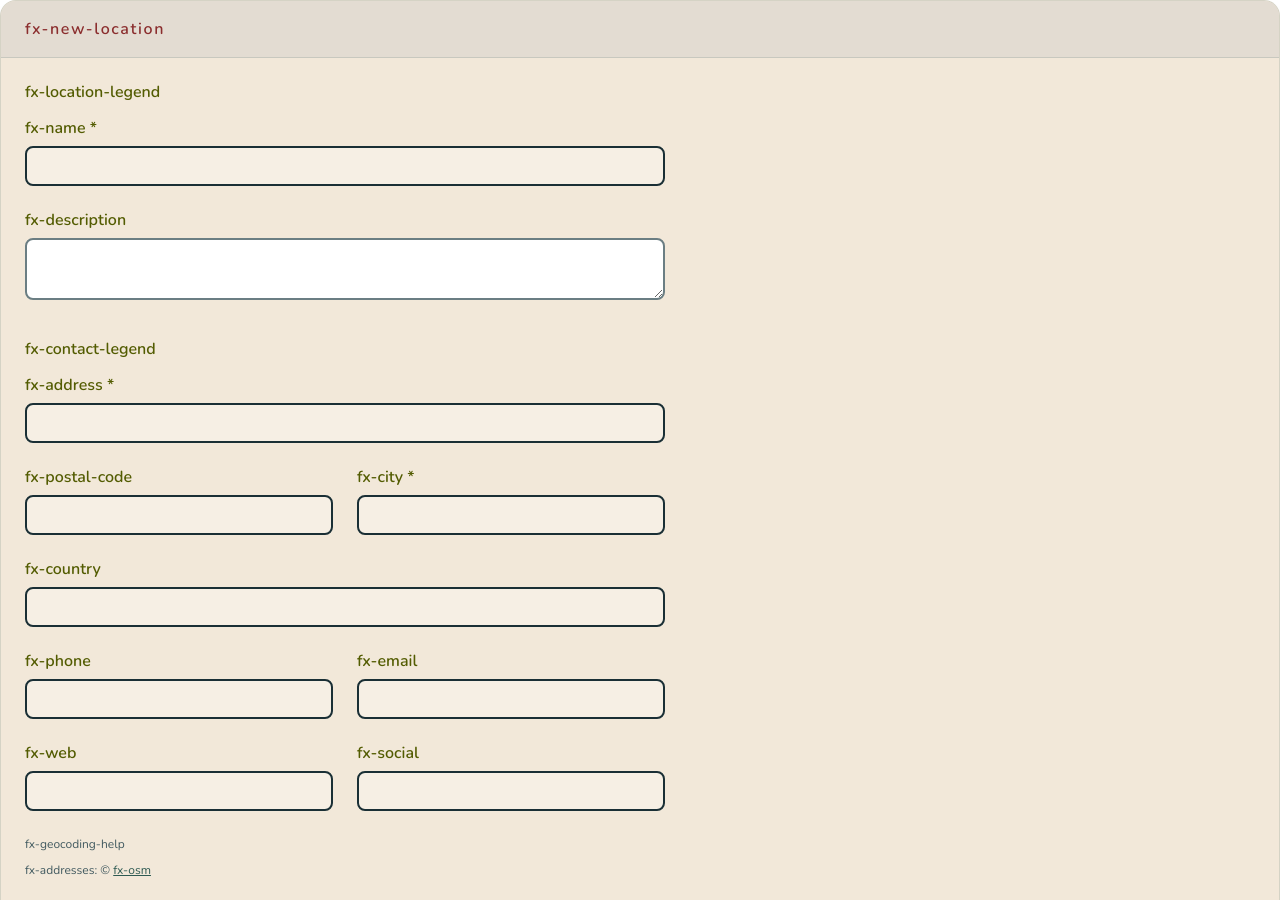
it: LocationForm checks (spec: Location form checks) › shows emailFormatError for an invalid Email and focuses it
Type "Tazavera Gràcia" into the field labelled "fx-name *" at (345, 166), box 25,146 -> 665,186
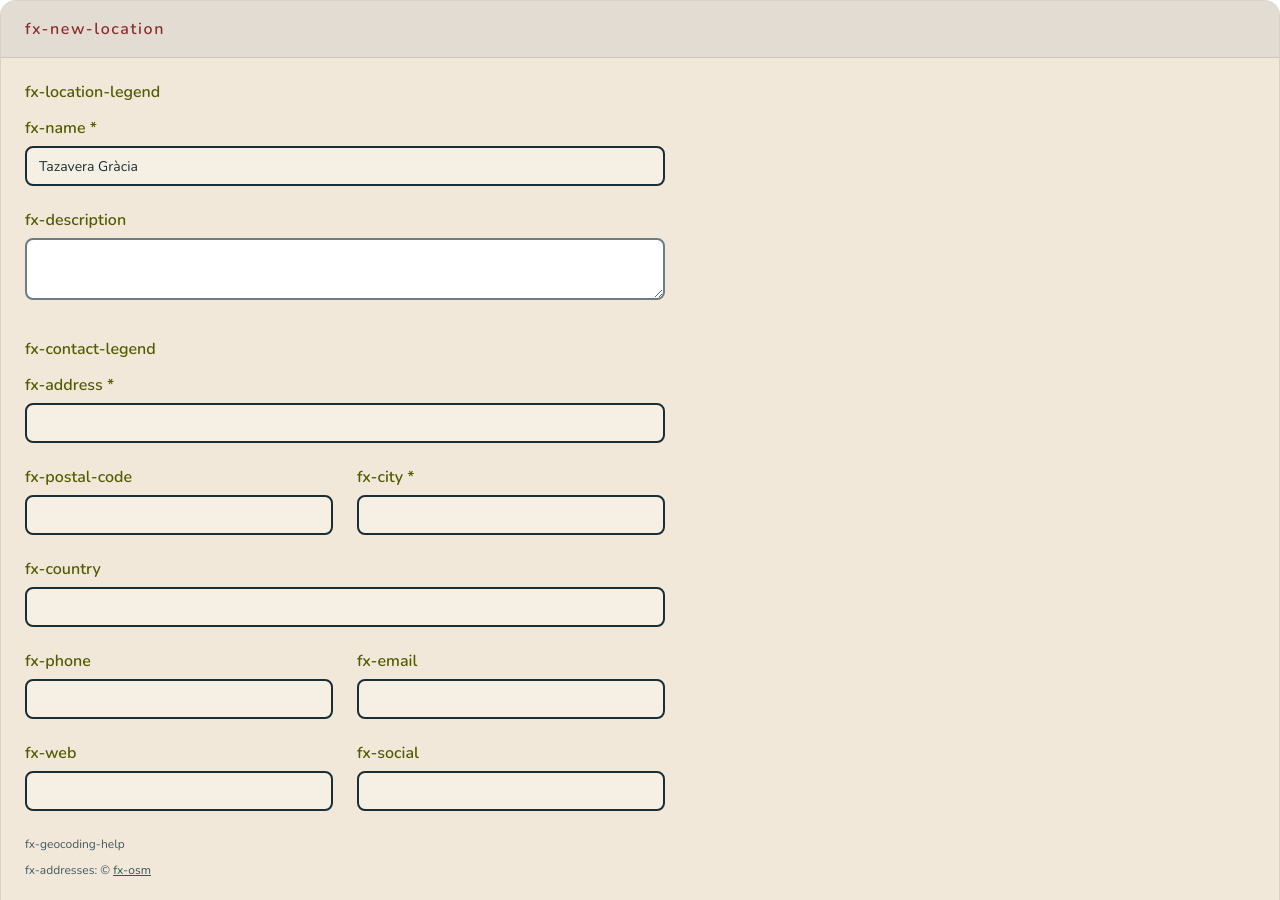
Type "Carrer de Verdi 12" into the field labelled "fx-address *" at (345, 423), box 25,403 -> 665,443
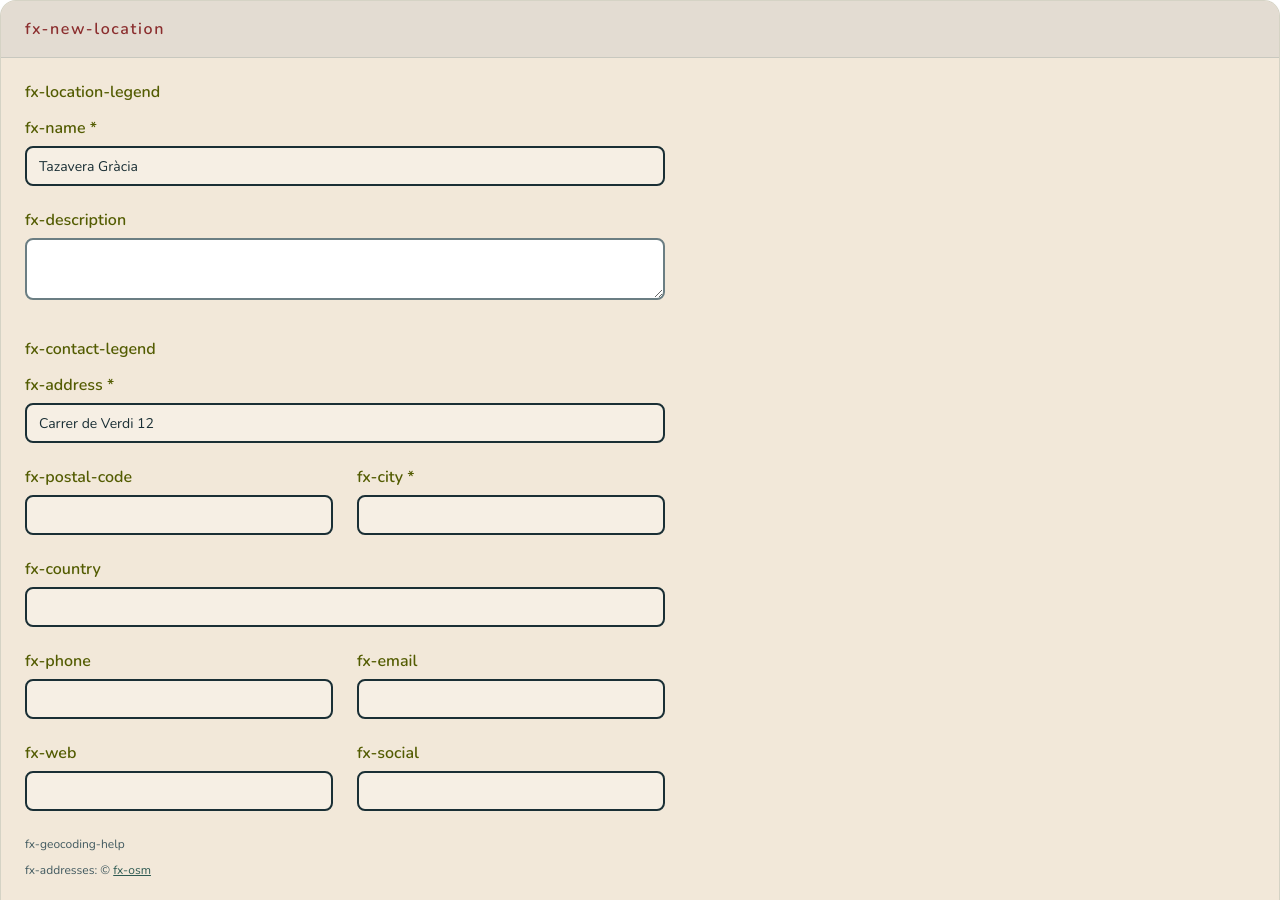
Type "Barcelona" into the field labelled "fx-city *" at (511, 515), box 357,495 -> 665,535
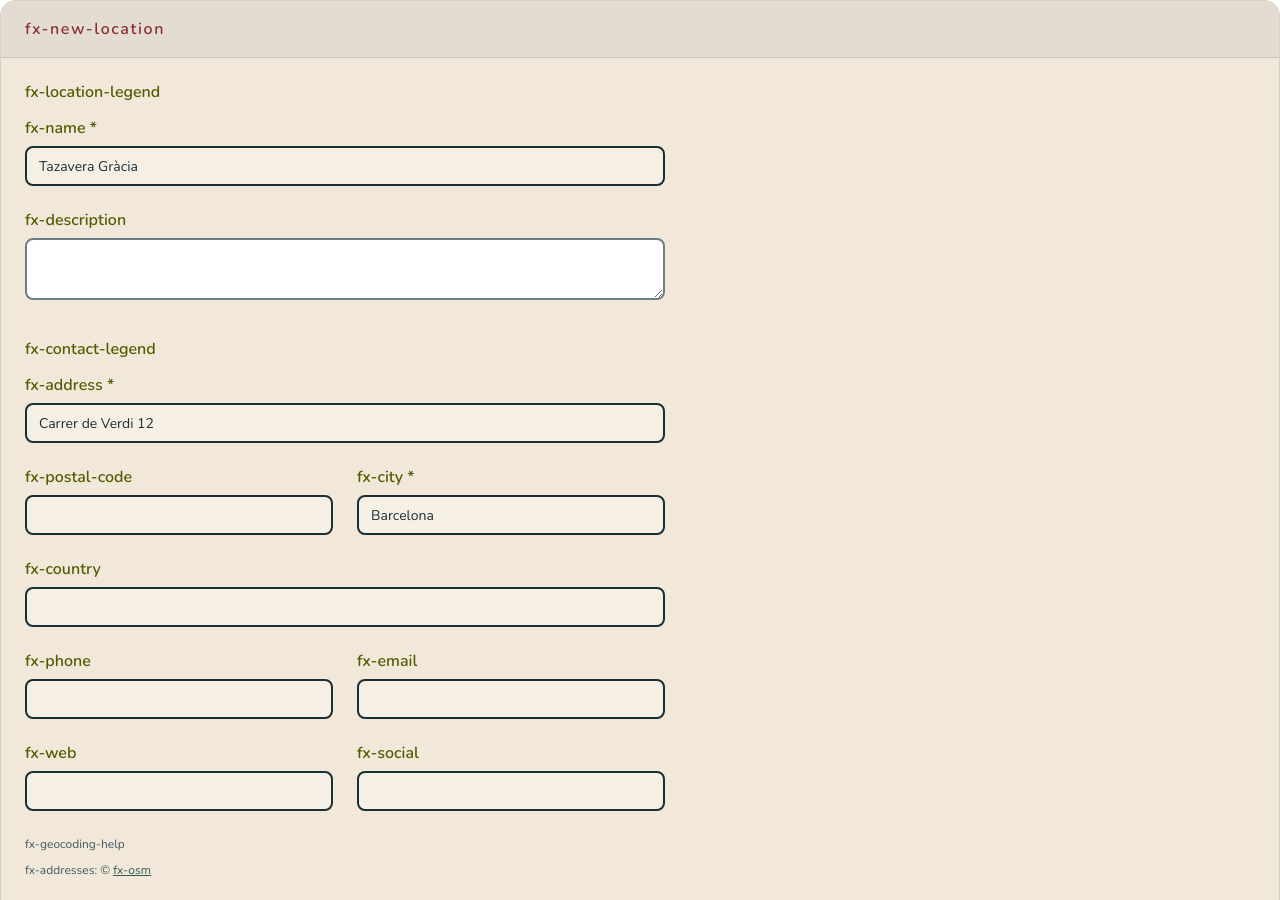
Type "ana@" into the field labelled "fx-email" at (511, 699), box 357,679 -> 665,719
(page scrolled)
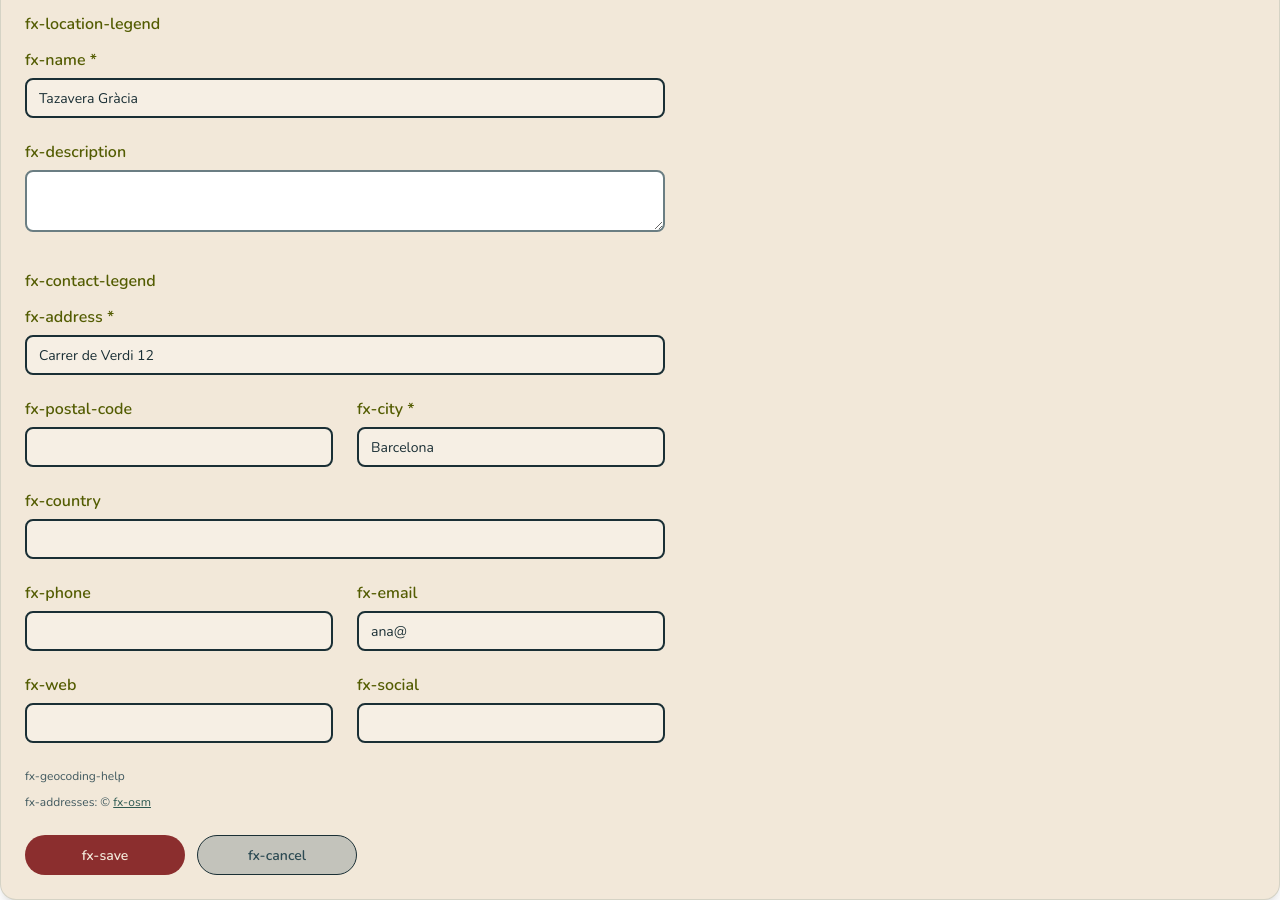
Click the button "fx-save" at (105, 855), box 25,835 -> 185,875
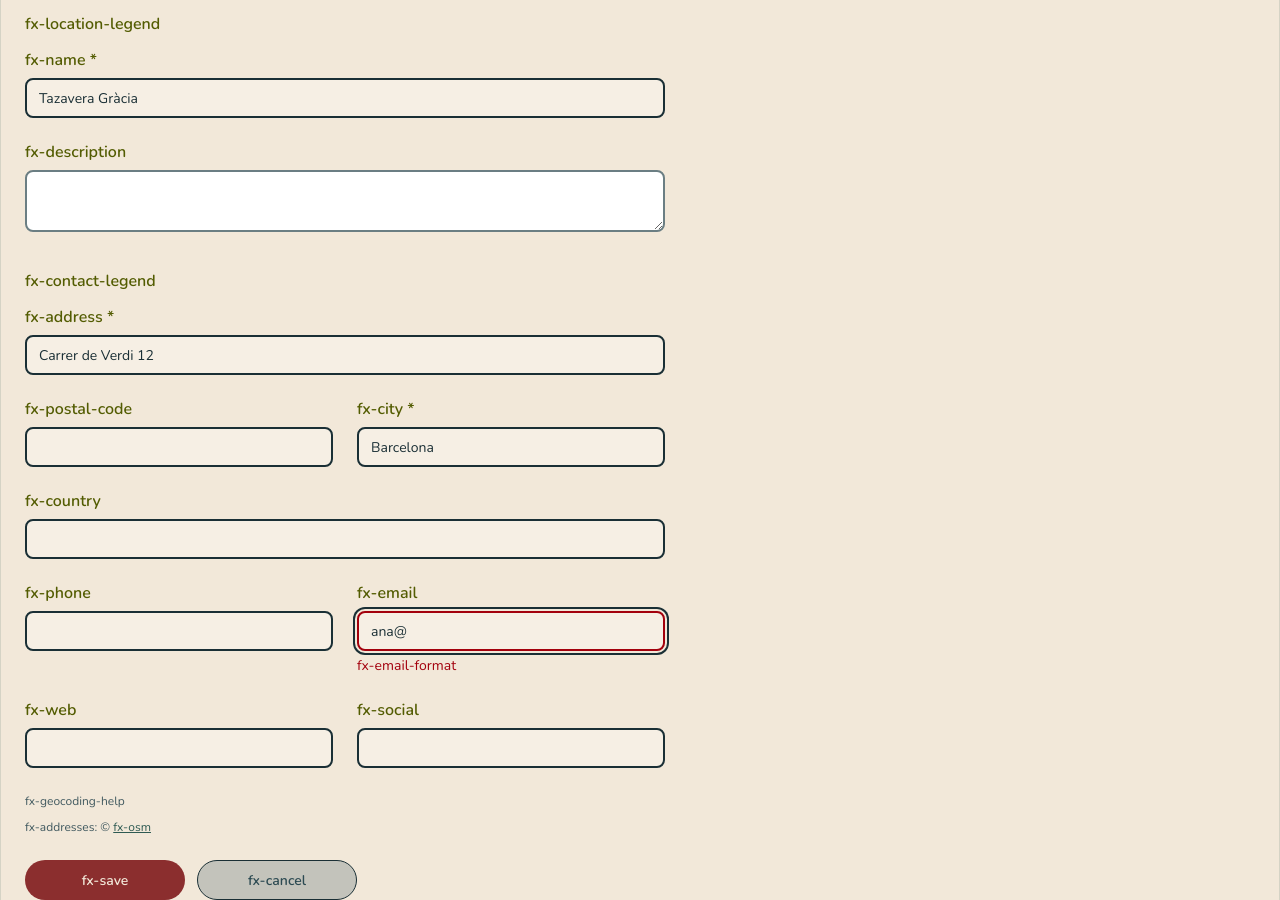
Now the text "fx-email-format" is shown, box 357,656 -> 456,675
